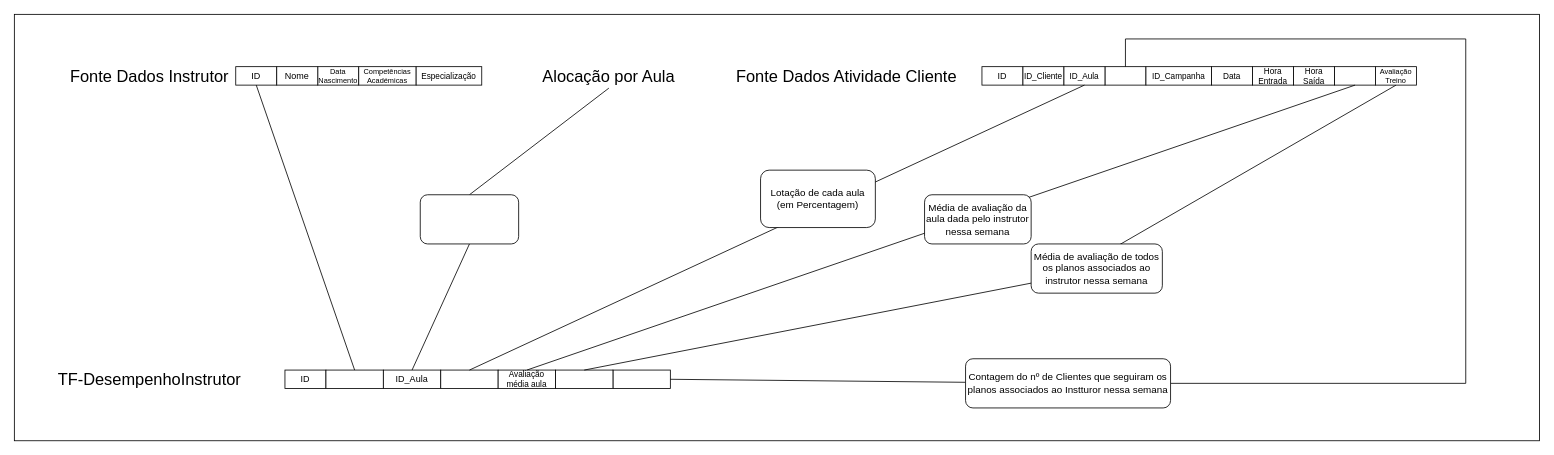
Image size: 1554x455. Some labels were removed from this diagram. The centre of each missing label's shape, as x and y in pixels:
"Analisar a que aula está encarregue cada Instrutor" goes at (469,219).
"Avaliação Aula" goes at (1355,75).
"Avaliação média planos" goes at (584,379).
"ID_Instrutor" goes at (354,379).
"ID_Treino" goes at (1125,75).
"Lotação média p/aula" goes at (469,379).
"Nº Planos Seguidos" goes at (641,379).
